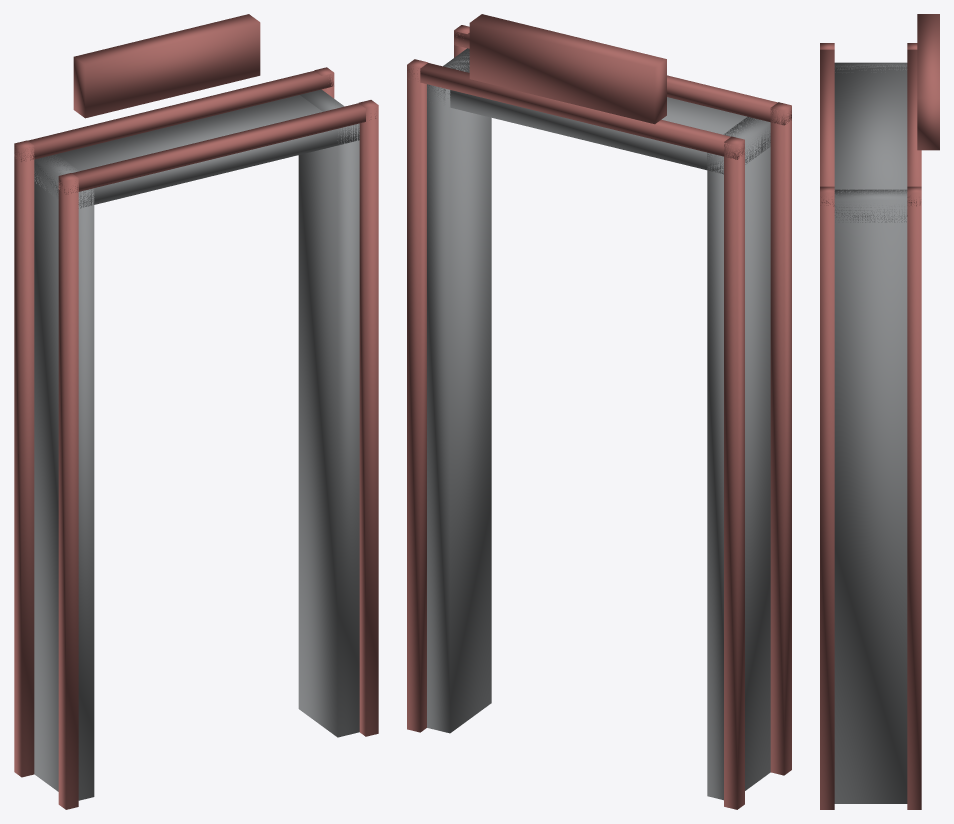
Rendered from doorway_emergency_exit_w86_h200_d24.glb.
3 views of the same model, side by side, from view 1: azimuth 30°, elevation 25°; view 2: azimuth 150°, elevation 25°; view 3: azimuth 270°, elevation 25° (orthographic). The views are drawn at different scales.
Parts seen in each view (by area): view 1: world; view 2: world; view 3: world.
Boxes of the visible parts, box(x1,y1,x2,y2) form: world: box(14, 14, 378, 809); world: box(407, 14, 791, 809); world: box(820, 14, 939, 809).
Size of the model in its own units: 1.1 by 2.34 by 0.3733.
